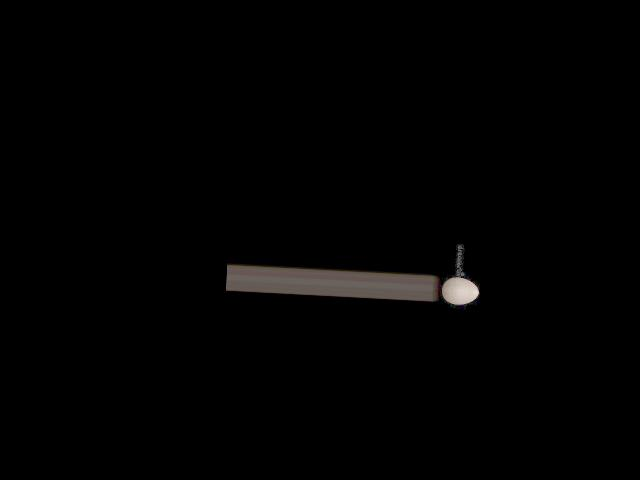egg: (440, 277, 479, 306)
